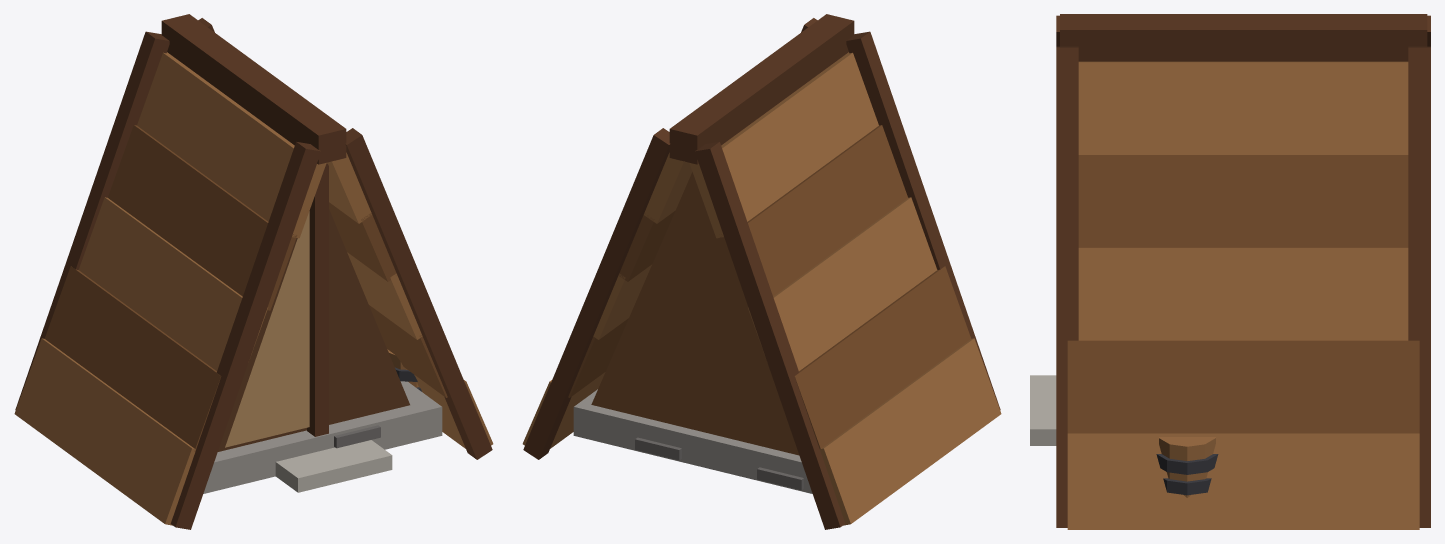
The model's file is shelter.glb.
The picture shows the model from 3 angles, left to right: view 1: azimuth 30°, elevation 25°; view 2: azimuth 150°, elevation 25°; view 3: azimuth 270°, elevation 25°; orthographic projection. The views are drawn at different scales.
Parts seen in each view (by area): view 1: roof_plank, roof_plank_mid, timber, opening, hide, ridge, footing, stone_light, stone_dark; view 2: roof_plank, roof_plank_mid, gable, timber, ridge, footing, stone_dark; view 3: roof_plank, roof_plank_mid, timber, ridge, stone_light, barrel, iron.
Part boxes in pixels (box(x1,y1,x2,y2)): roof_plank: box(14, 52, 493, 525); roof_plank_mid: box(44, 125, 447, 451); timber: box(15, 18, 492, 529); opening: box(218, 209, 409, 451); hide: box(225, 211, 309, 447); ridge: box(161, 14, 346, 164); footing: box(203, 381, 442, 493); stone_light: box(275, 440, 392, 492); stone_dark: box(334, 425, 380, 448); roof_plank: box(522, 52, 1001, 525); roof_plank_mid: box(568, 125, 971, 448); gable: box(591, 172, 799, 455); timber: box(523, 18, 1000, 529); ridge: box(669, 14, 854, 164); footing: box(573, 389, 812, 493); stone_dark: box(635, 437, 803, 490); roof_plank: box(1067, 61, 1419, 529); roof_plank_mid: box(1067, 155, 1419, 433); timber: box(1056, 15, 1430, 527); ridge: box(1060, 14, 1427, 61); stone_light: box(1030, 375, 1056, 445); barrel: box(1159, 437, 1215, 497); iron: box(1156, 454, 1218, 495).
Bounding box in the file's own units: 1.18 × 1.25 × 1.07.
